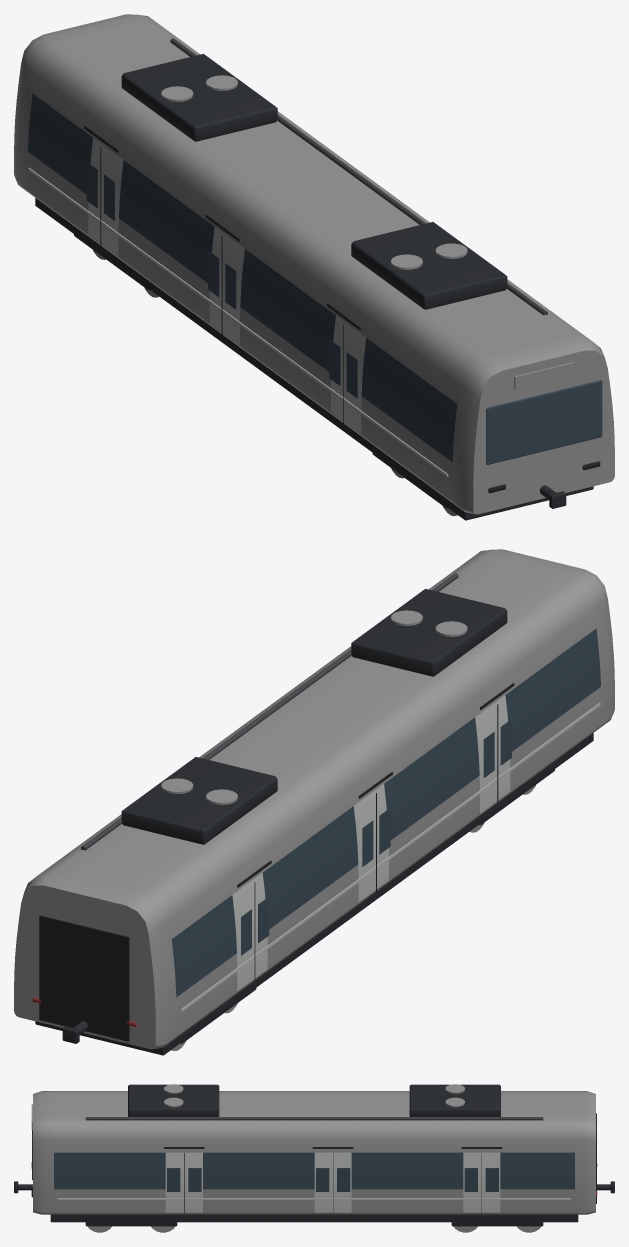
Rendered from TrainCar_Metro.fbx.
3 views of the same model, one above another, from view 1: azimuth 30°, elevation 25°; view 2: azimuth 150°, elevation 25°; view 3: azimuth 270°, elevation 25° (orthographic). The views are drawn at different scales.
Parts seen in each view (by area): view 1: TrainCar_Metro_LOD0; view 2: TrainCar_Metro_LOD0; view 3: TrainCar_Metro_LOD0.
Part boxes in pixels (box(x1,y1,x2,y2)): TrainCar_Metro_LOD0: box(14, 14, 614, 520); TrainCar_Metro_LOD0: box(14, 549, 614, 1055); TrainCar_Metro_LOD0: box(14, 1084, 614, 1232).
Size of what is drawn, in the model's own units: 3.11 by 3.93 by 17.08.
